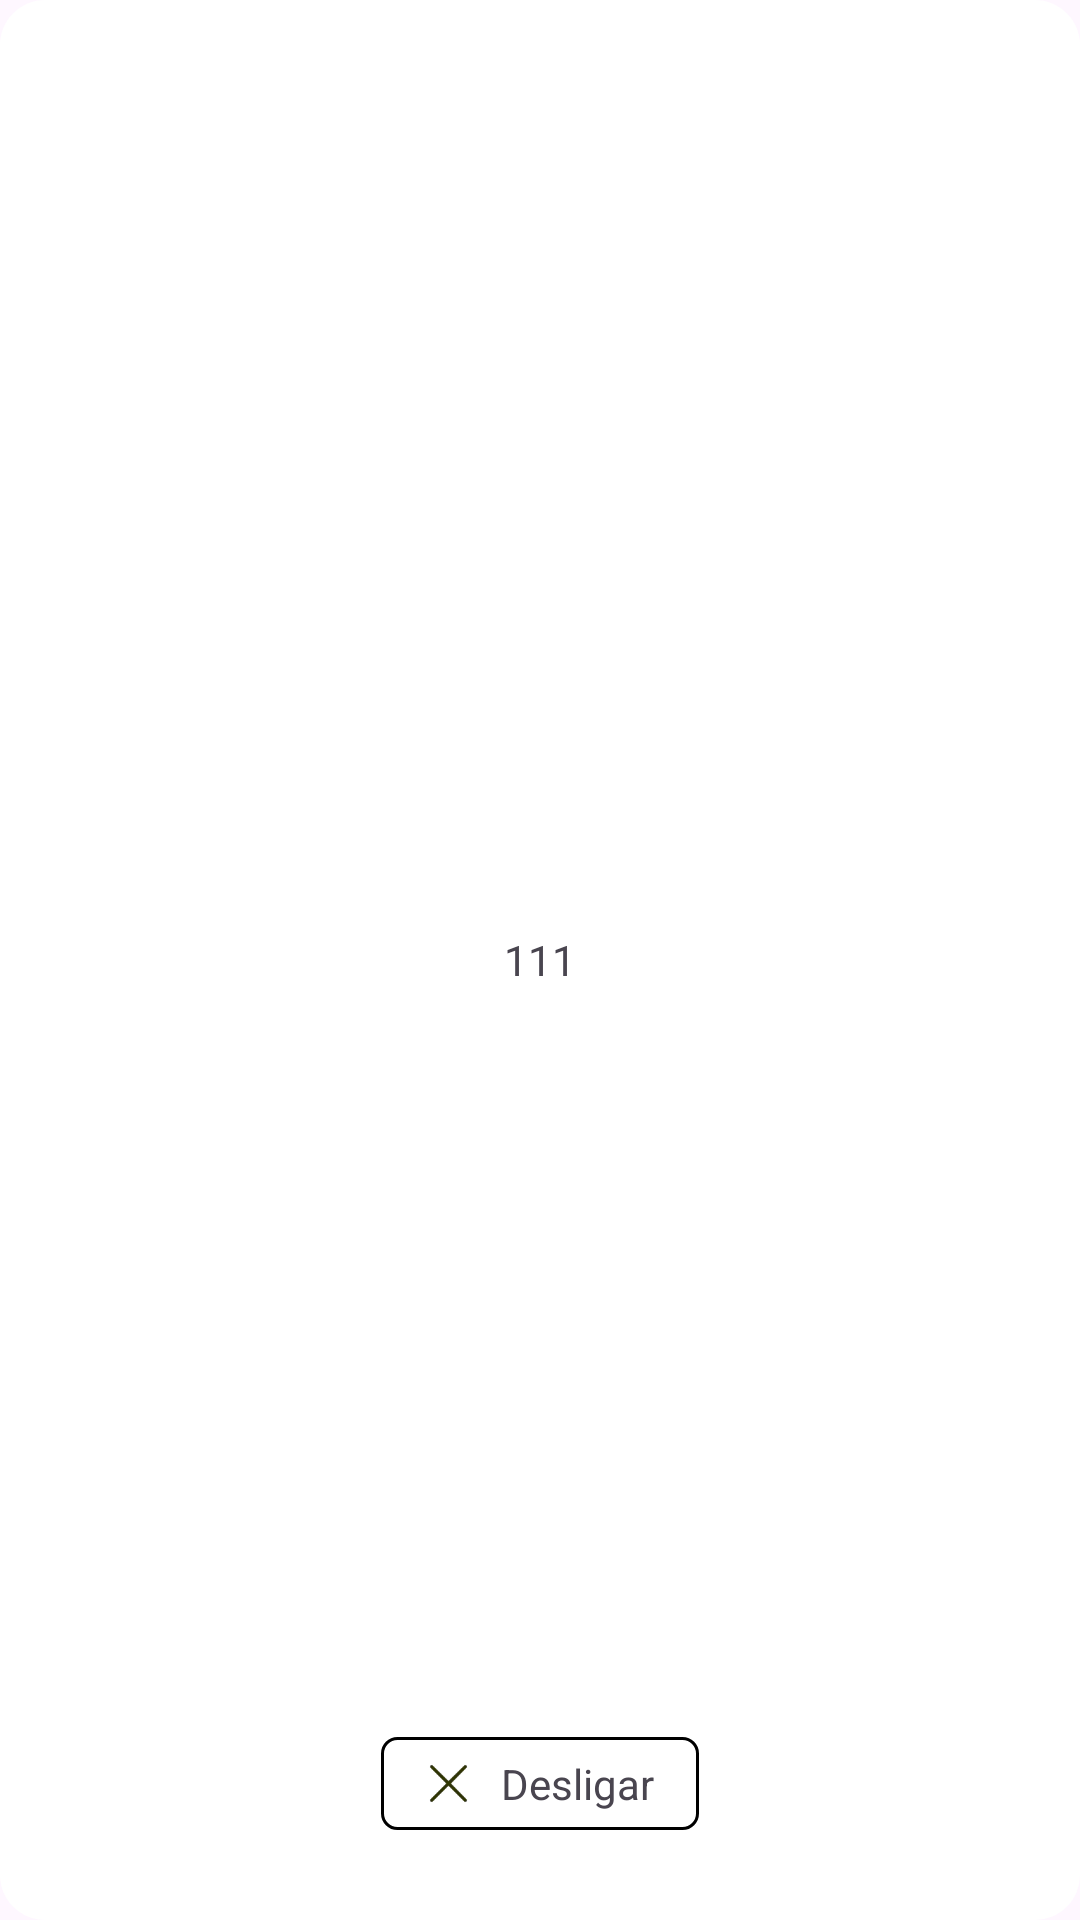

Icons on this 1080px×1920px Android screen, each with the point to tap as (x,y):
quxiao: (448,1783)
